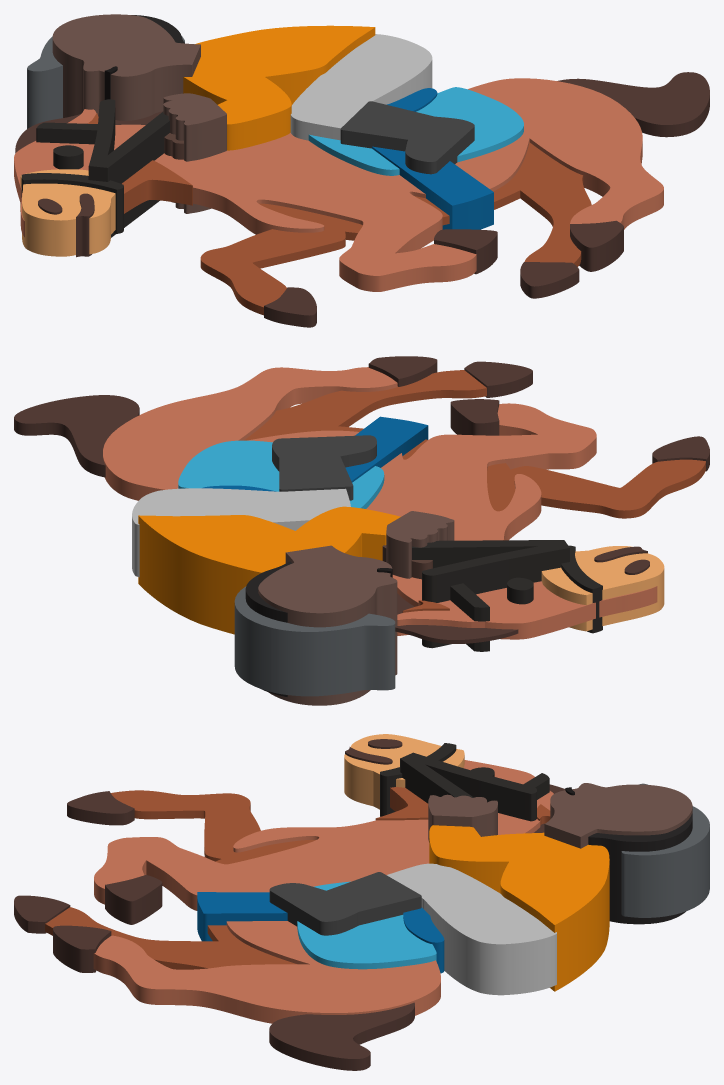
The model's file is emoji_u1f3c7_1f3ff.glb.
3 renders of one model, top to bottom at view 1: azimuth 30°, elevation 25°; view 2: azimuth 150°, elevation 25°; view 3: azimuth 270°, elevation 25°, orthographic. The views are drawn at different scales.
Visible parts, largest first — view 1: emoji_u1f3c7_1f3ff; view 2: emoji_u1f3c7_1f3ff; view 3: emoji_u1f3c7_1f3ff.
Part boxes in pixels (<box>): emoji_u1f3c7_1f3ff: <box>14,14,709,327</box>; emoji_u1f3c7_1f3ff: <box>14,356,709,705</box>; emoji_u1f3c7_1f3ff: <box>14,734,709,1070</box>.
Size of the model in its own units: 0.0343 by 0.0048 by 0.0322.
